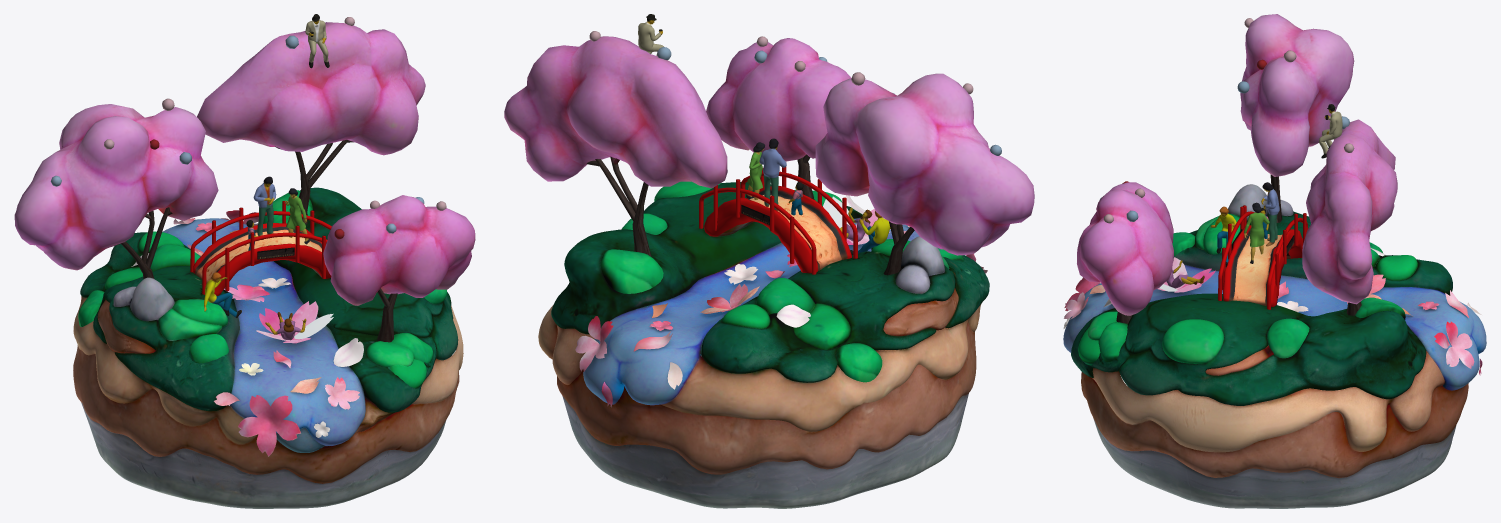
The model's file is river.glb.
3 renders of one model, left to right at view 1: azimuth 30°, elevation 25°; view 2: azimuth 150°, elevation 25°; view 3: azimuth 270°, elevation 25°, orthographic. The views are drawn at different scales.
Parts seen in each view (by area): view 1: ground, sakuraA (×2), sakuraB, sakuraC (×2), river, bridge_base, Group2 (×2), rock1, polySurface106, polySurface101, polySurface124, polySurface122 (+11 smaller); view 2: ground, sakuraB, sakuraA, river, sakuraC, bridge_base, polySurface112, polySurface114, polySurface123, polySurface113, Group2 (×2), rock1 (+8 smaller); view 3: ground, sakuraB, sakuraA, sakuraC, river, bridge_base, polySurface115, polySurface110, Group2 (×2), sakuraAA, polySurface104, polySurface125 (+6 smaller).
Boxes of the visible parts, x1,y1,x2,y2 form: ground: (73, 187, 463, 508); sakuraA (×2): (197, 22, 425, 409); sakuraB: (14, 104, 218, 270); sakuraC (×2): (238, 195, 475, 456); river: (162, 218, 365, 445); bridge_base: (193, 223, 331, 295); Group2 (×2): (204, 14, 329, 317); rock1: (130, 277, 174, 321); polySurface106: (158, 308, 222, 340); polySurface101: (172, 299, 228, 326); polySurface124: (367, 341, 413, 367); polySurface122: (189, 334, 228, 363); ground: (538, 182, 989, 508); sakuraB: (815, 73, 1034, 255); sakuraA: (504, 36, 727, 188); river: (583, 217, 918, 405); sakuraC: (706, 38, 851, 161); bridge_base: (704, 186, 851, 273); polySurface112: (600, 249, 663, 293); polySurface114: (793, 303, 850, 349); polySurface123: (836, 343, 882, 382); polySurface113: (757, 278, 815, 314); Group2 (×2): (638, 14, 890, 255); rock1: (901, 236, 944, 275); ground: (1071, 211, 1468, 508); sakuraB: (1240, 14, 1354, 176); sakuraA: (1302, 119, 1397, 304); sakuraC: (1077, 182, 1173, 315); river: (1063, 265, 1486, 390); bridge_base: (1222, 225, 1302, 306); polySurface115: (1162, 319, 1223, 363); polySurface110: (1267, 318, 1309, 358); Group2 (×2): (1210, 104, 1342, 266); sakuraAA: (1446, 321, 1474, 368); polySurface104: (1375, 255, 1418, 280); polySurface125: (1098, 322, 1127, 362).
Size of the model in its own units: 14.36 by 11.98 by 12.08.
1 material, 1 textured.
